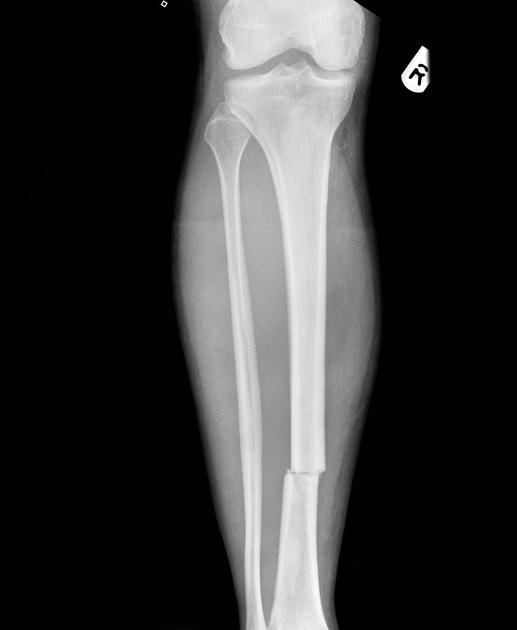fractured: (278, 458, 324, 483)
